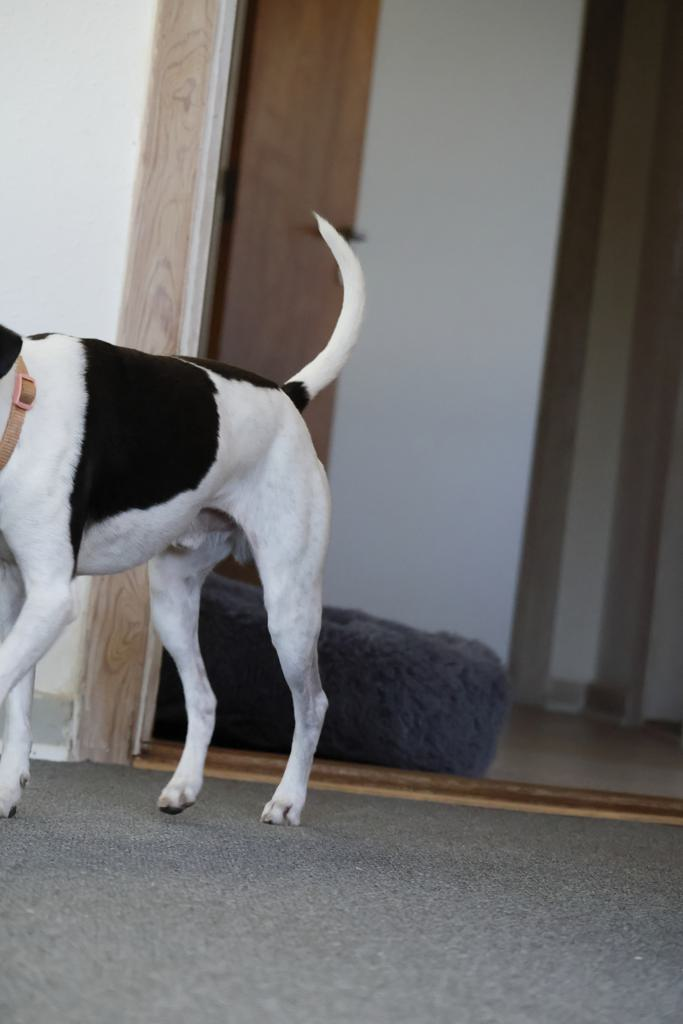Dog: (0, 208, 382, 831)
